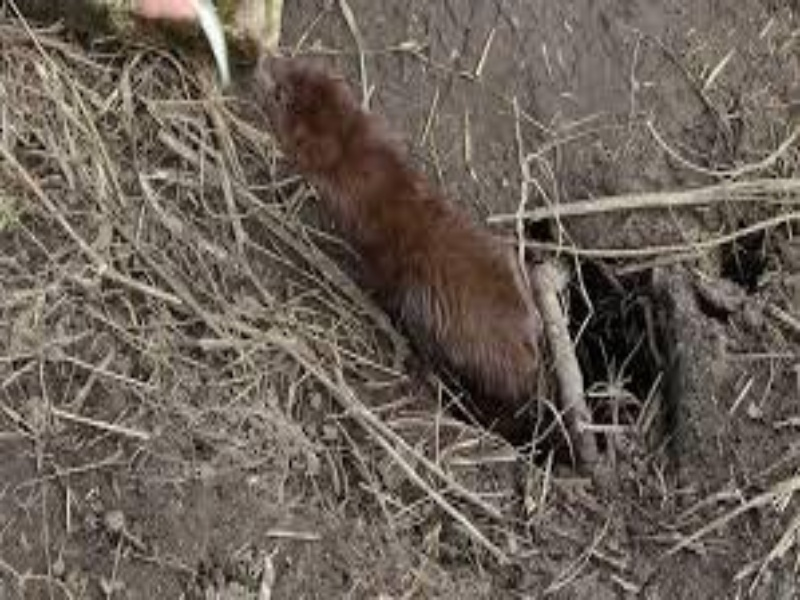minkish: (267, 65, 550, 427)
